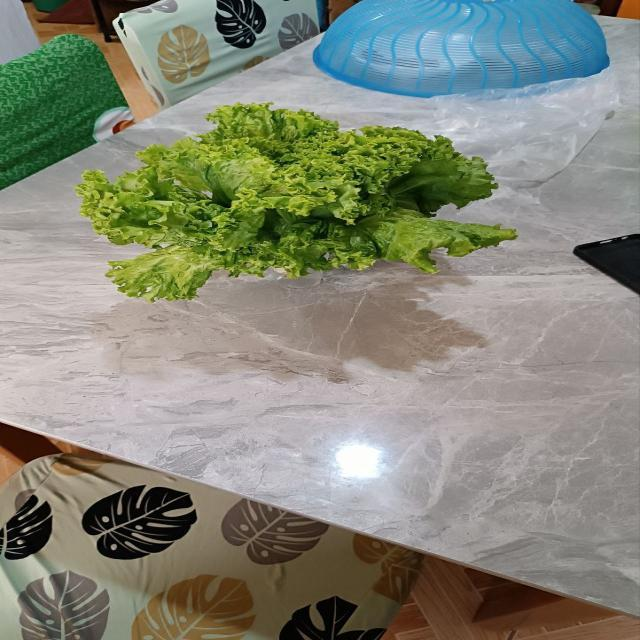Lettuce-Ready-to-Harvest: (76, 98, 513, 309)
